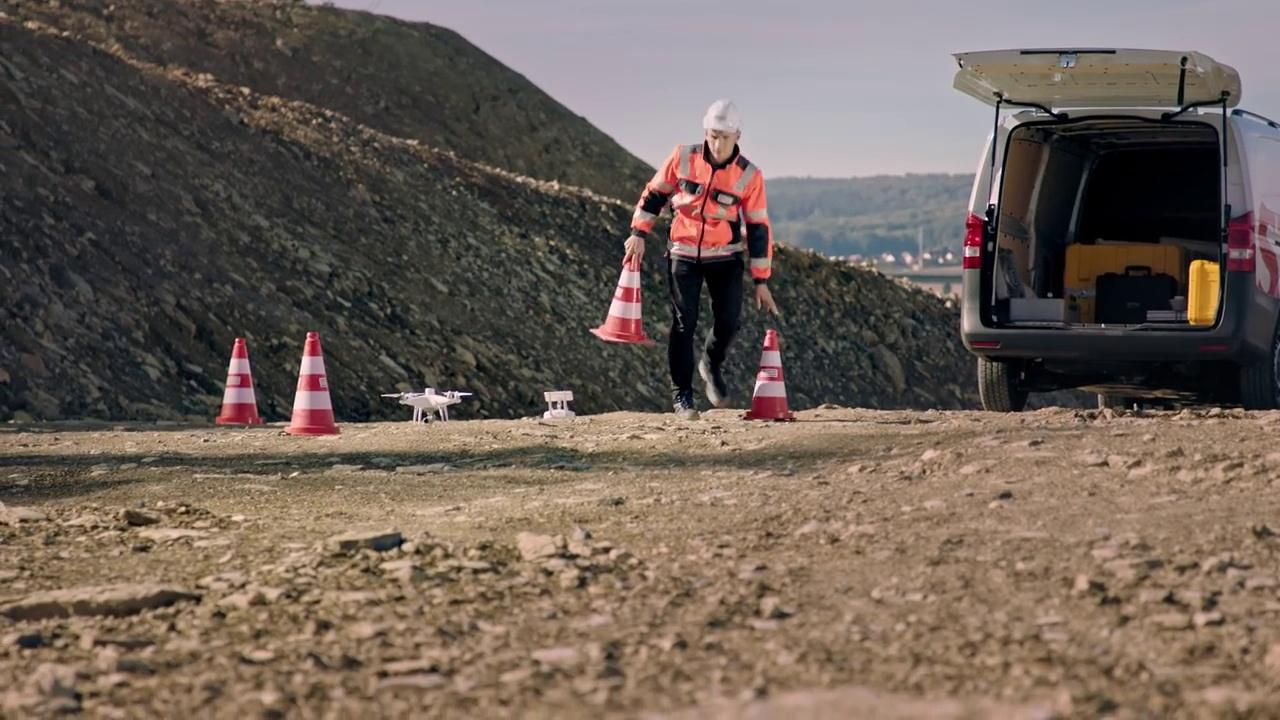drone: (378, 386, 475, 423)
